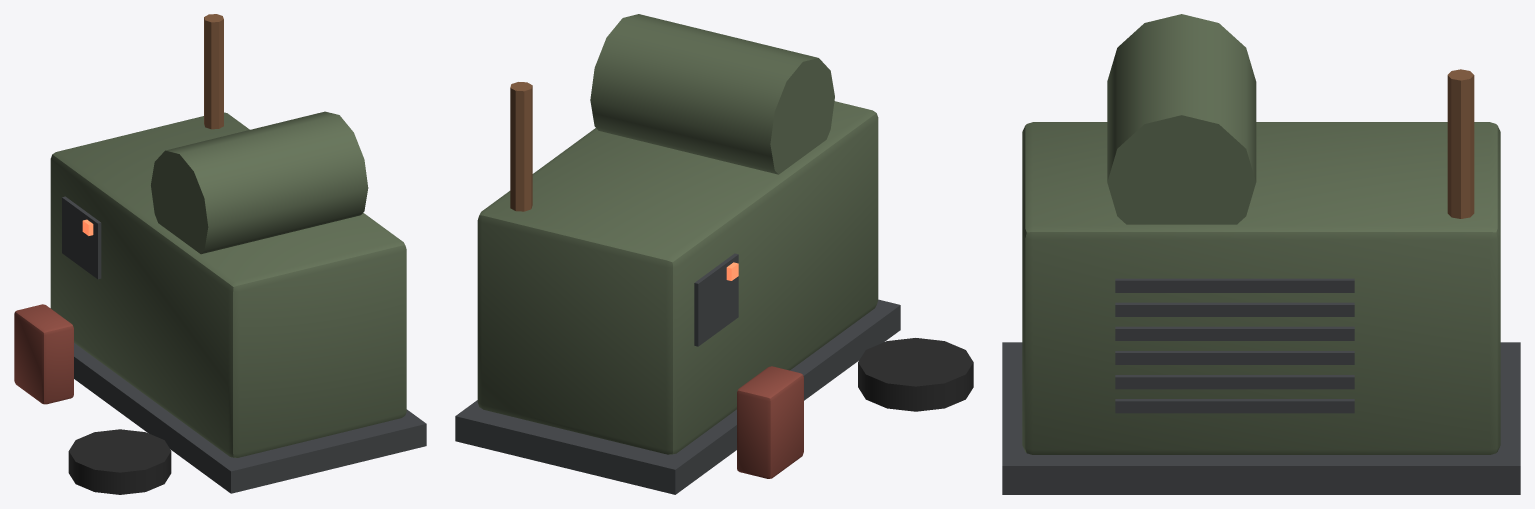
Rendered from ZR_Generator.fbx.
The picture shows the model from 3 angles, left to right: view 1: azimuth 30°, elevation 25°; view 2: azimuth 150°, elevation 25°; view 3: azimuth 270°, elevation 25°; orthographic projection. The views are drawn at different scales.
Visible parts, largest first — view 1: ZR_Generator; view 2: ZR_Generator; view 3: ZR_Generator.
Part boxes in pixels (<box>): ZR_Generator: <box>14,14,426,494</box>; ZR_Generator: <box>455,14,973,494</box>; ZR_Generator: <box>1002,14,1520,494</box>.
Bounding box in the file's own units: 1.7 × 1.65 × 1.95.
